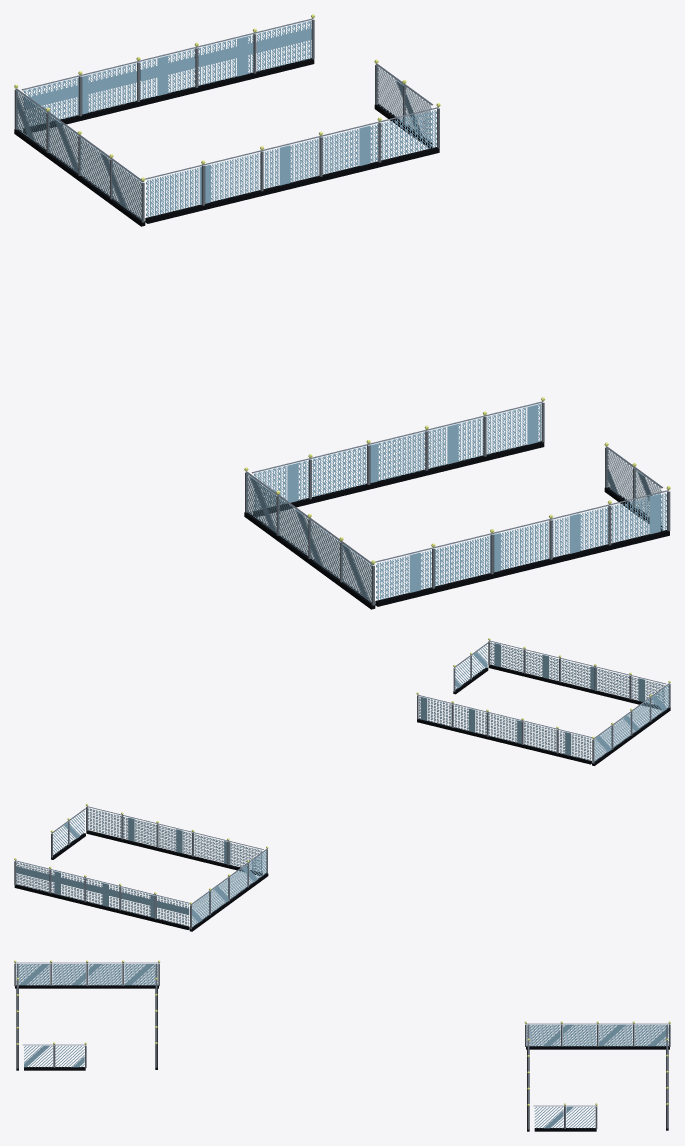
Rendered from tt_struct_guards_cores_f3_r2b.glb.
3 renders of one model, top to bottom at view 1: azimuth 30°, elevation 25°; view 2: azimuth 150°, elevation 25°; view 3: azimuth 270°, elevation 25°, orthographic. The views are drawn at different scales.
Visible parts, largest first — view 1: Guard_Pane_Scissor, Guard_Kerb, Guard_Posts, Guard_Rail; view 2: Guard_Pane_Scissor, Guard_Kerb, Guard_Posts, Guard_Rail; view 3: Guard_Pane_Scissor, Guard_Kerb, Guard_Rail, Guard_Posts.
Part boxes in pixels (left/top/right/bottom): Guard_Pane_Scissor: left=17, top=21, right=666, bottom=602; Guard_Kerb: left=14, top=58, right=669, bottom=609; Guard_Posts: left=14, top=19, right=670, bottom=605; Guard_Rail: left=15, top=18, right=668, bottom=565; Guard_Pane_Scissor: left=16, top=642, right=669, bottom=927; Guard_Kerb: left=14, top=664, right=670, bottom=931; Guard_Posts: left=14, top=641, right=670, bottom=929; Guard_Rail: left=15, top=640, right=669, bottom=905; Guard_Pane_Scissor: left=16, top=964, right=668, bottom=1128; Guard_Kerb: left=15, top=985, right=669, bottom=1131; Guard_Rail: left=15, top=962, right=669, bottom=1106; Guard_Posts: left=14, top=963, right=670, bottom=1129.
Size of what is drawn, in the model's own units: 13.04 by 1.16 by 25.09.
5 materials, 4 textured.
